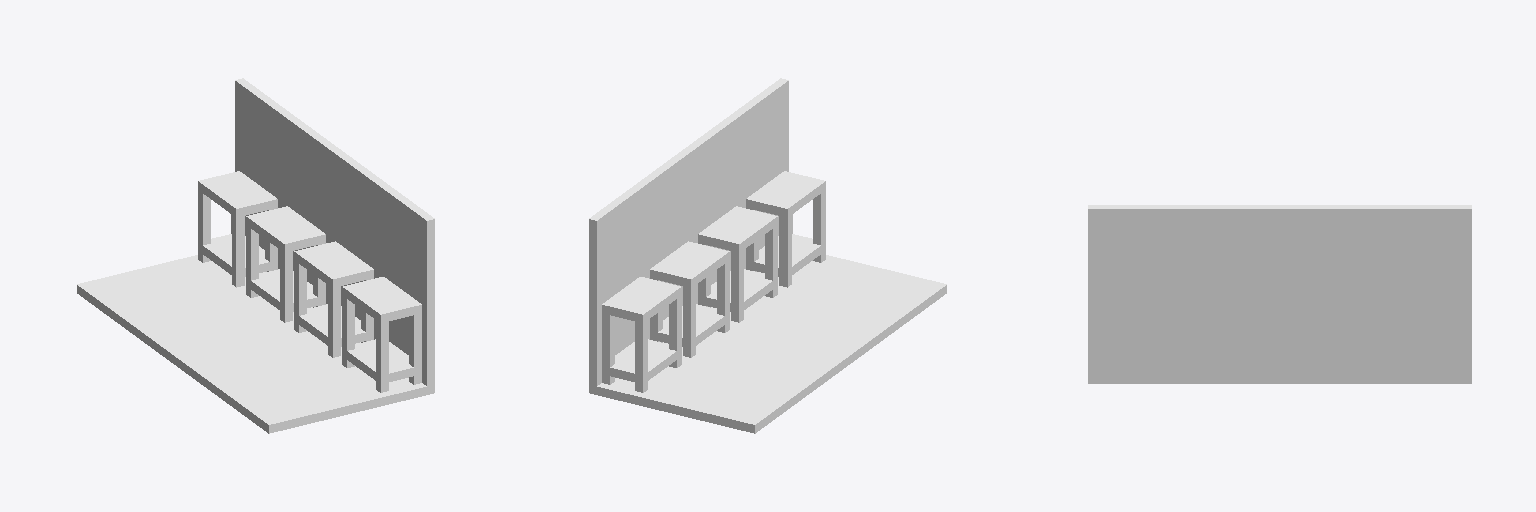
Rendered from level_three-3.obj.
3 views of the same model, side by side, from view 1: azimuth 30°, elevation 25°; view 2: azimuth 150°, elevation 25°; view 3: azimuth 270°, elevation 25° (orthographic).
Visible parts, largest first — view 1: level_three-3; view 2: level_three-3; view 3: level_three-3.
Boxes of the visible parts, box(x1,y1,x2,y2) form: level_three-3: box(77, 78, 434, 433); level_three-3: box(589, 78, 946, 433); level_three-3: box(1088, 205, 1471, 383).
Size of the model in its own units: 20 by 20 by 40.